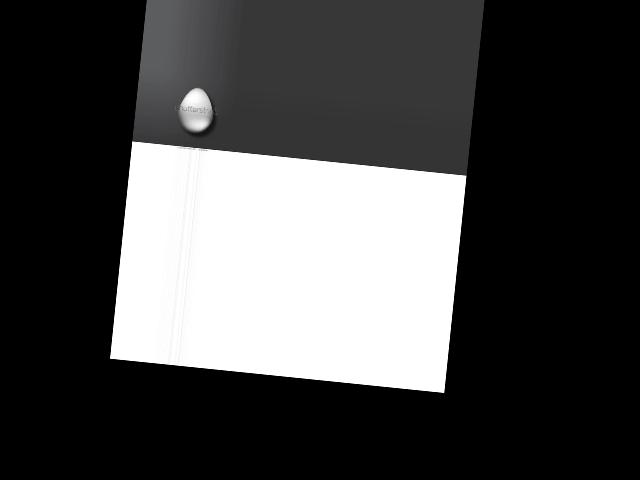egg: (176, 85, 215, 134)
